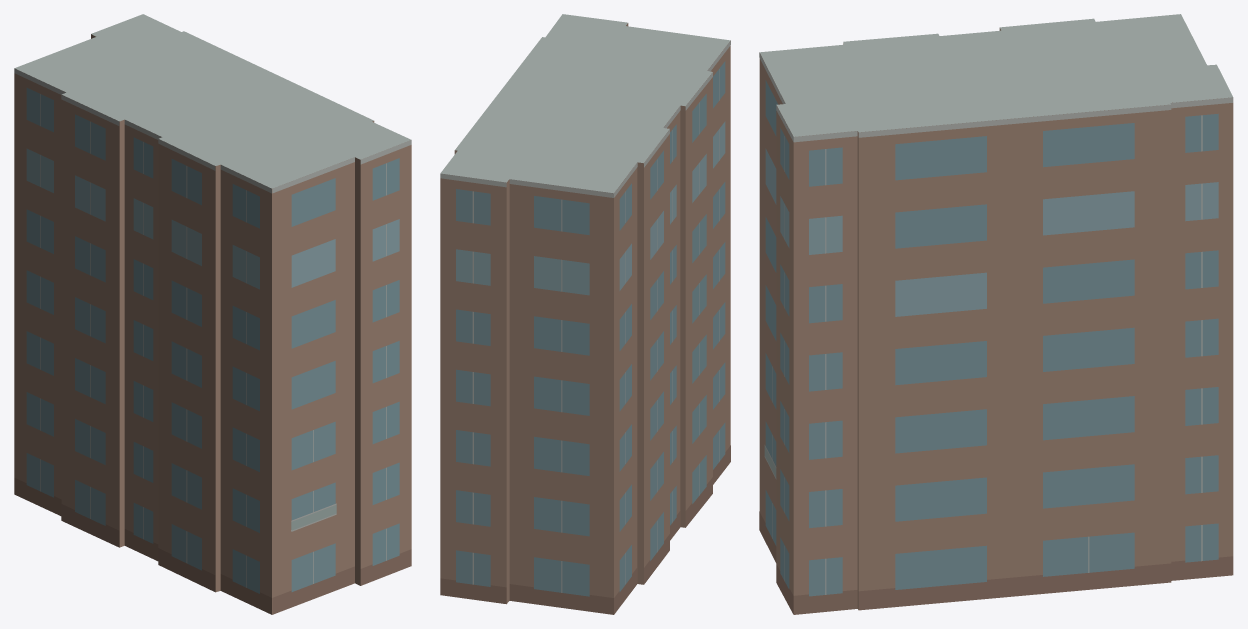
File: survey-upis-32972602.glb
3 renders of one model, left to right at view 1: azimuth 30°, elevation 25°; view 2: azimuth 150°, elevation 25°; view 3: azimuth 270°, elevation 25°, orthographic. The views are drawn at different scales.
Parts seen in each view (by area): view 1: survey-upis-32972602.tmp; view 2: survey-upis-32972602.tmp; view 3: survey-upis-32972602.tmp.
Part boxes in pixels (bbox=[...]): survey-upis-32972602.tmp: bbox=[14, 14, 411, 614]; survey-upis-32972602.tmp: bbox=[440, 14, 730, 614]; survey-upis-32972602.tmp: bbox=[759, 14, 1233, 614].
Size of the model in its own units: 11.79 by 21.35 by 19.19.
